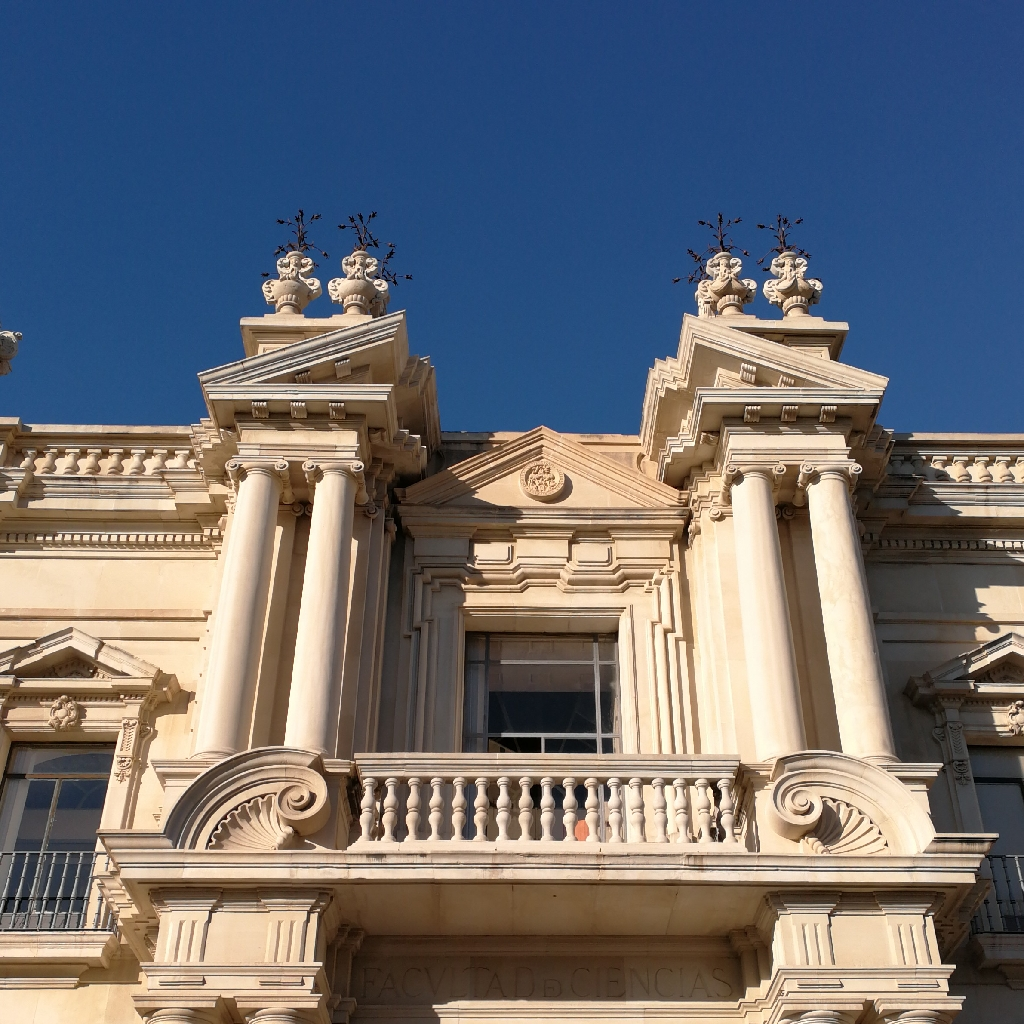fronton: (391, 420, 690, 524), (1, 627, 164, 705), (909, 624, 1024, 702)
fronton-partido: (156, 738, 942, 904), (191, 301, 897, 417)
vano-adintelado: (438, 593, 653, 853), (1, 711, 146, 938)
